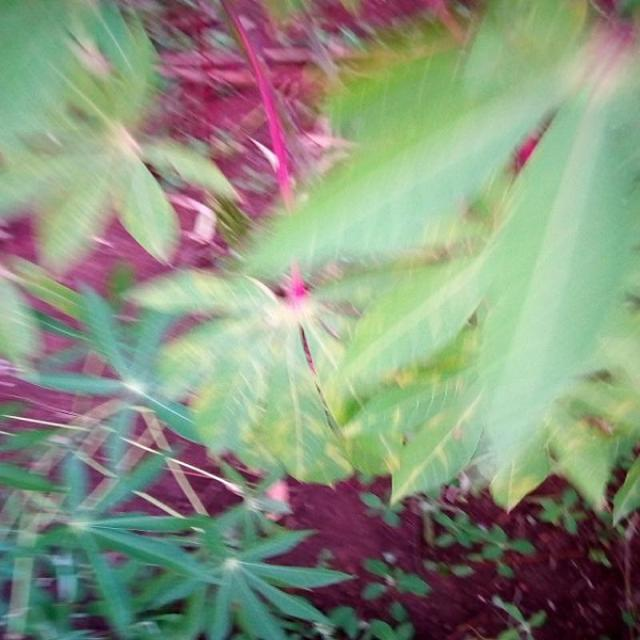cassava leaf: (124, 1, 638, 520)
